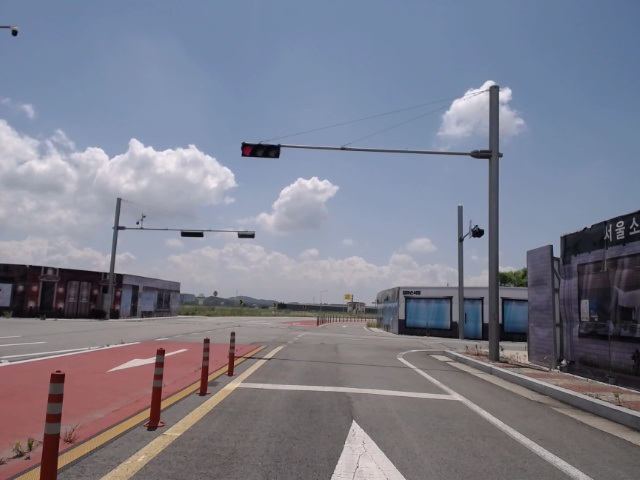red_3: (242, 142, 281, 158)
